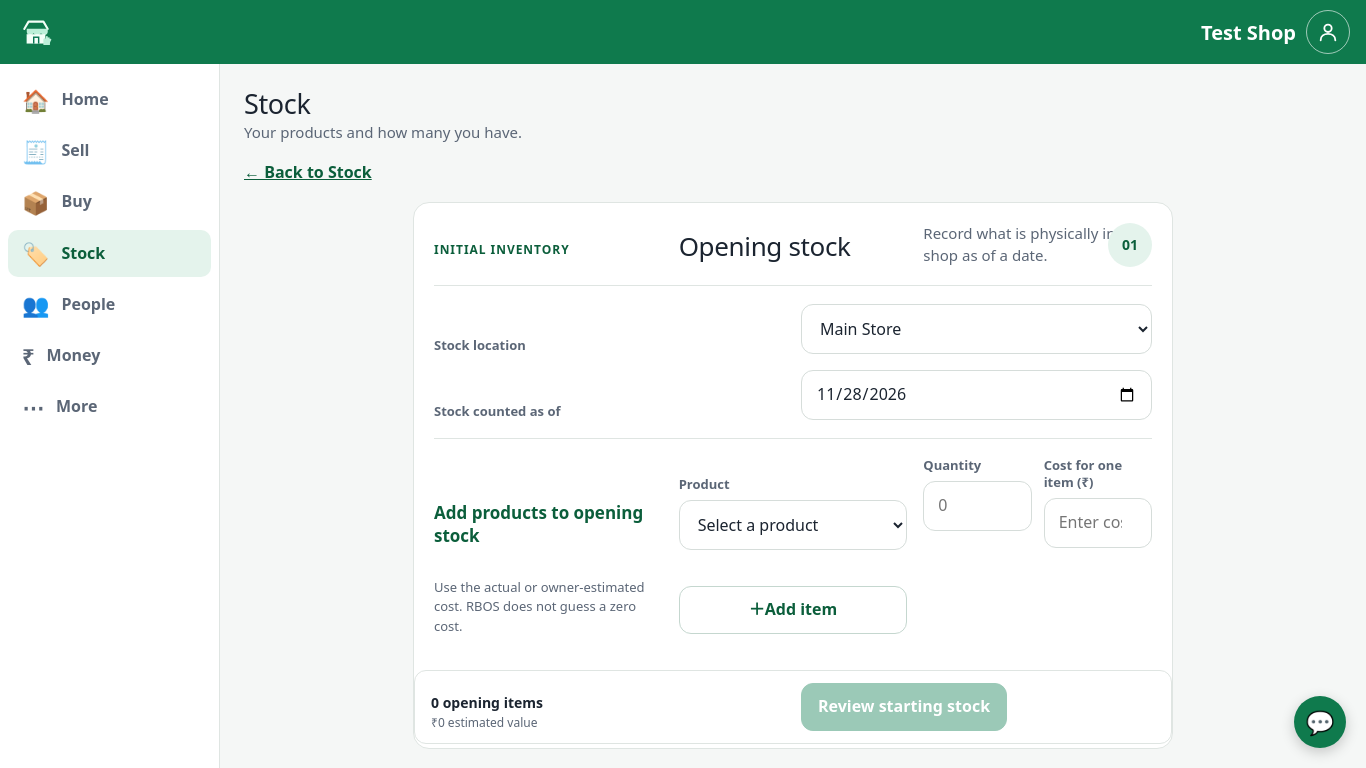
Test: Opening stock form › shows the server conflict when opening stock is already posted
This screenshot has width=1366, height=768.
Select "Test Cable (SKU-1)" in the dropdown labelled "Product": point(793, 525) 679,500 -> 907,550
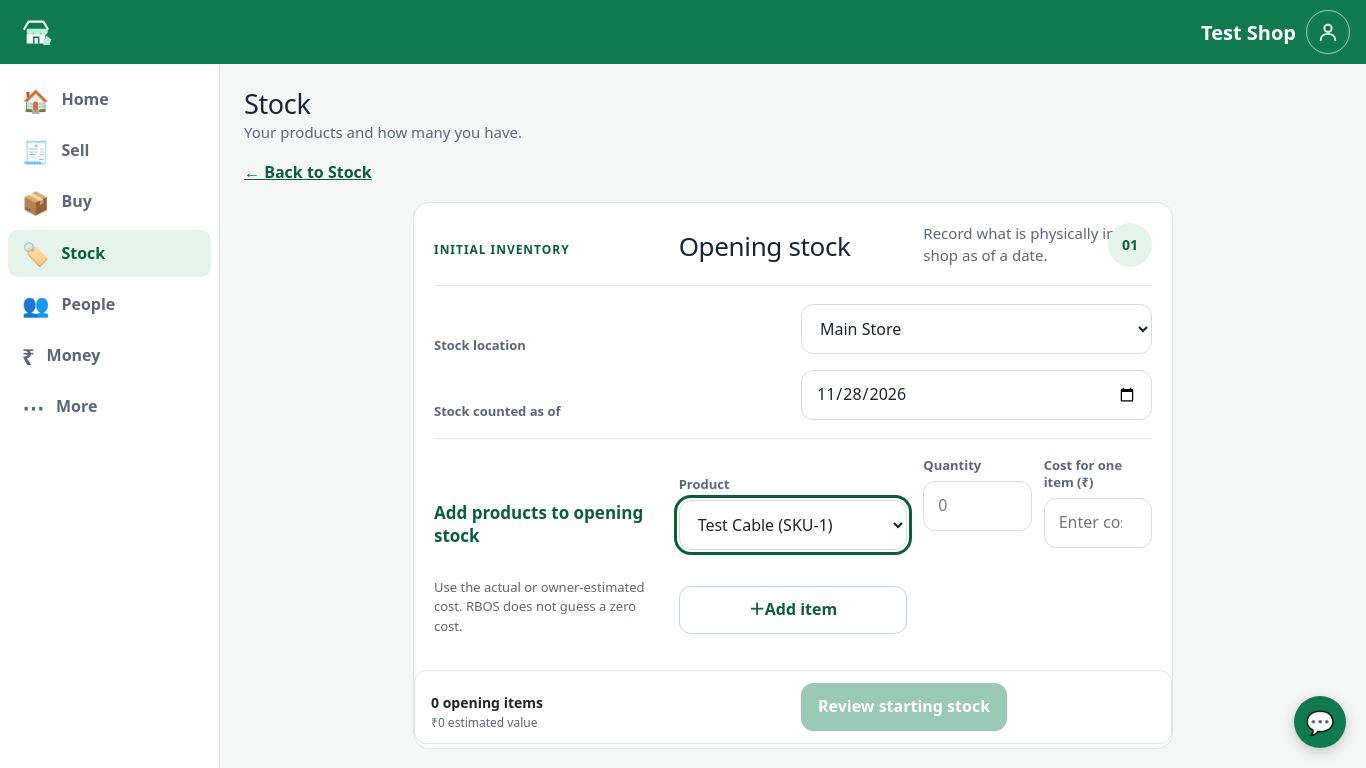
In the number field labelled "Quantity": point(977, 506) 923,481 -> 1032,531, type "1"
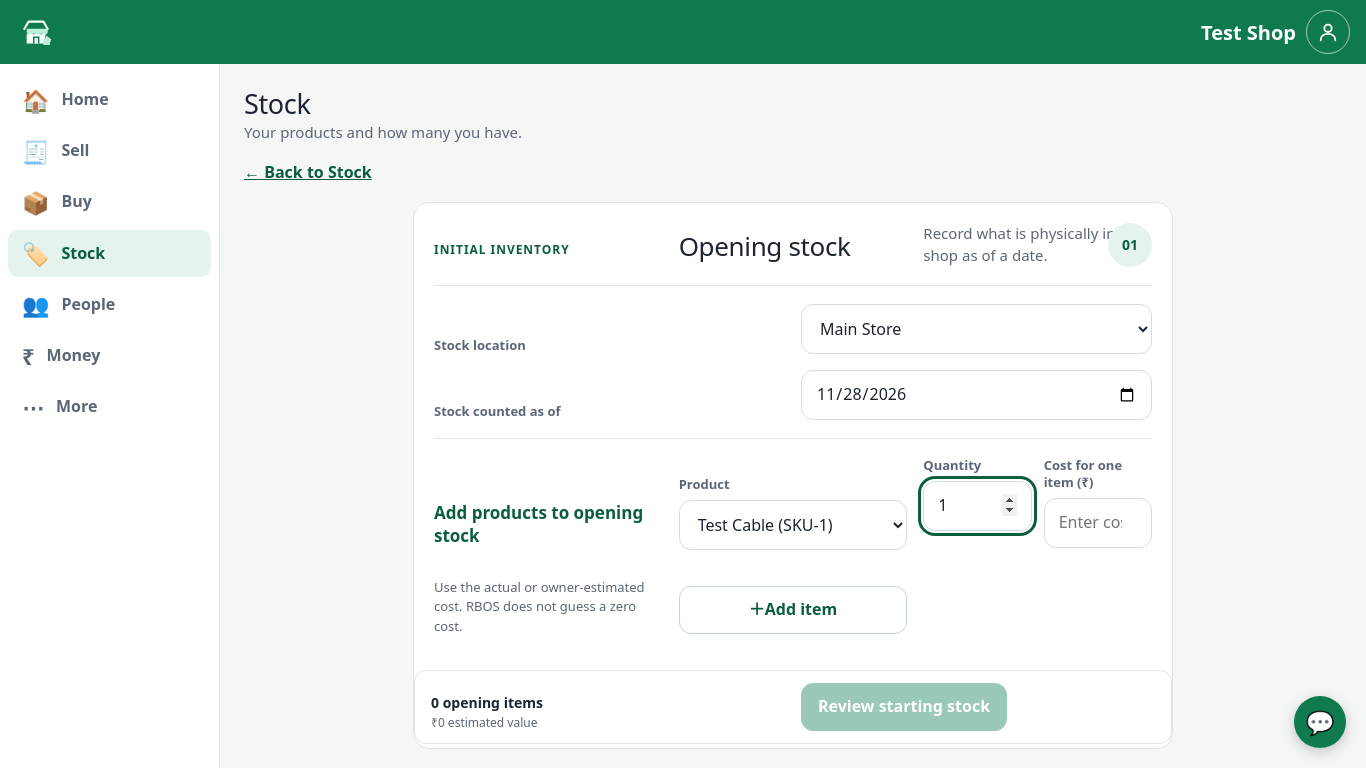
In the number field labelled "Cost for one item (₹)": point(1098, 523) 1044,498 -> 1152,548, type "1"
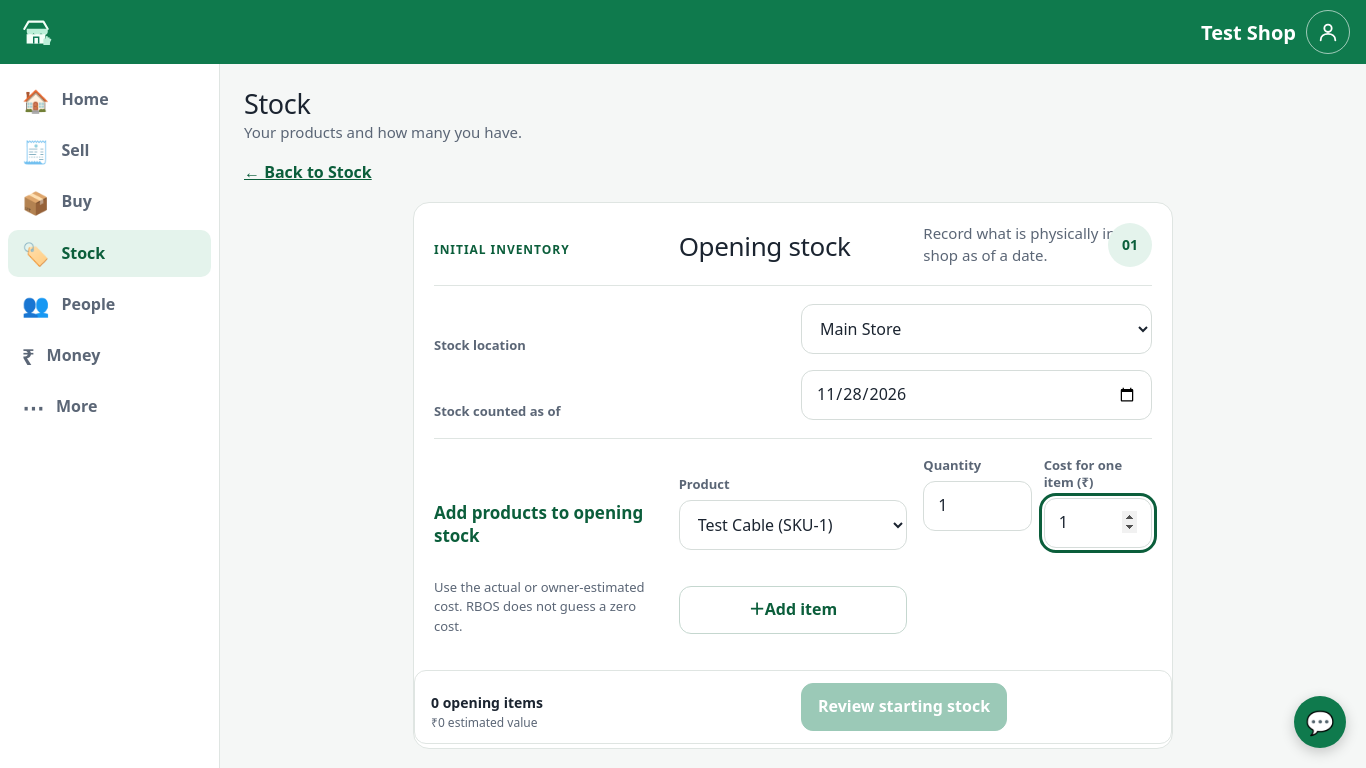
Click the button "＋ Add item": point(793, 610) 679,586 -> 907,634
(page scrolled)
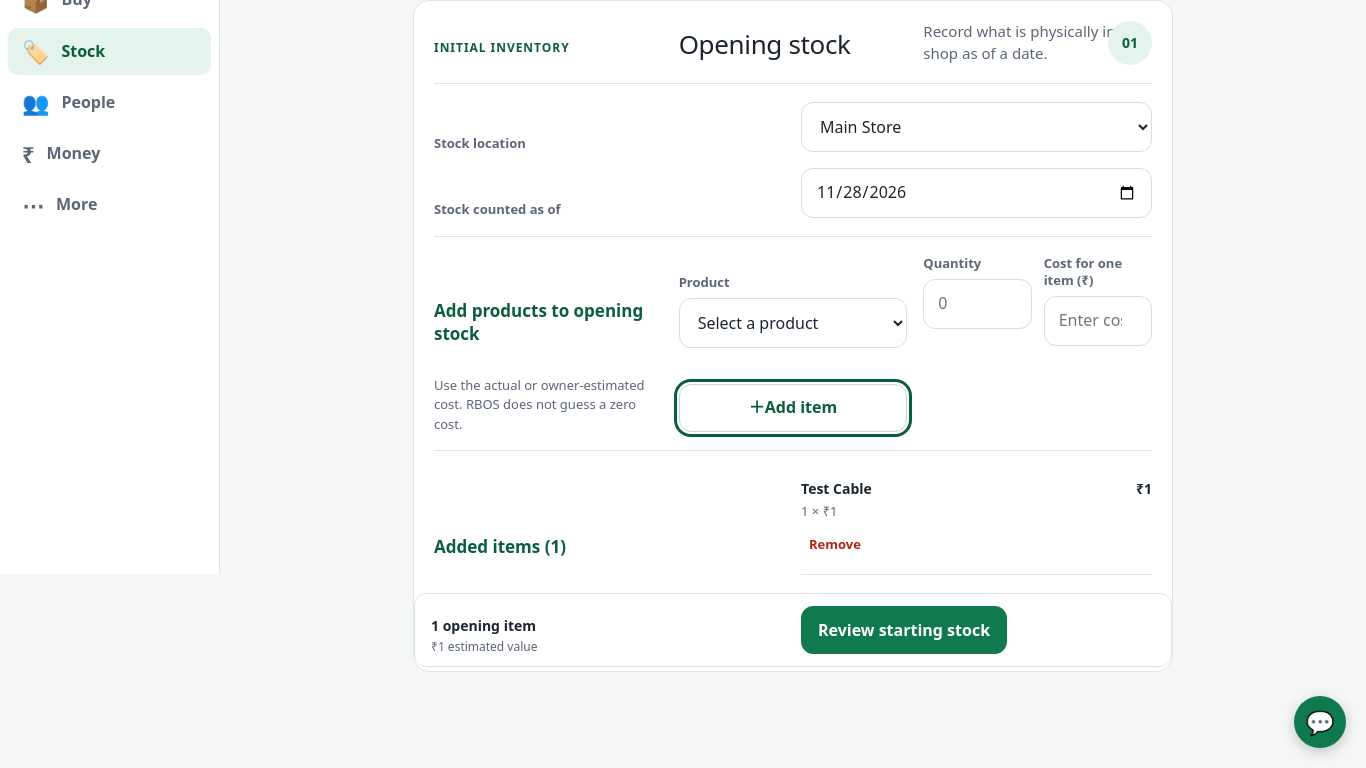
Click the button "Review starting stock": point(904, 630) 801,606 -> 1007,654
(page scrolled)
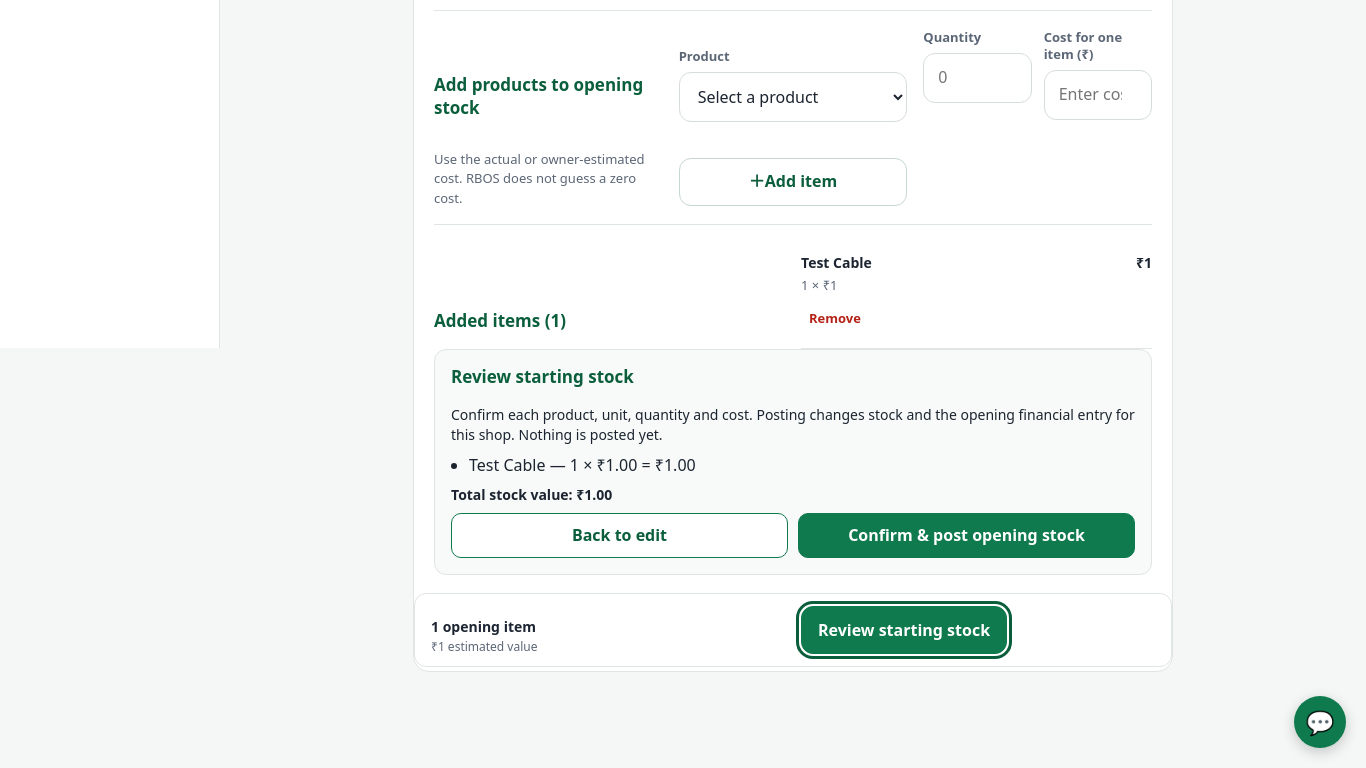
Click the button "Confirm & post opening stock": point(966, 536) 798,513 -> 1135,558
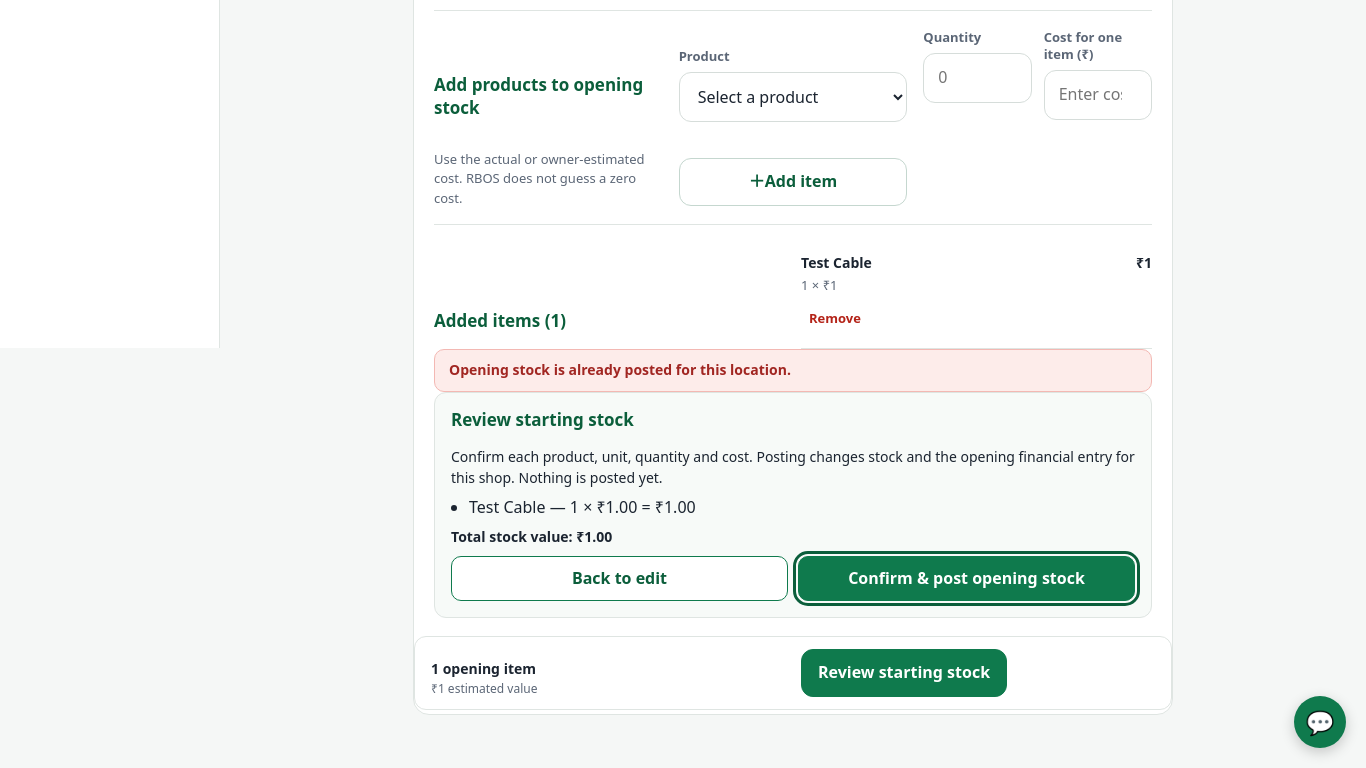
Check: the message shows "already posted", box 449,360 -> 791,379
